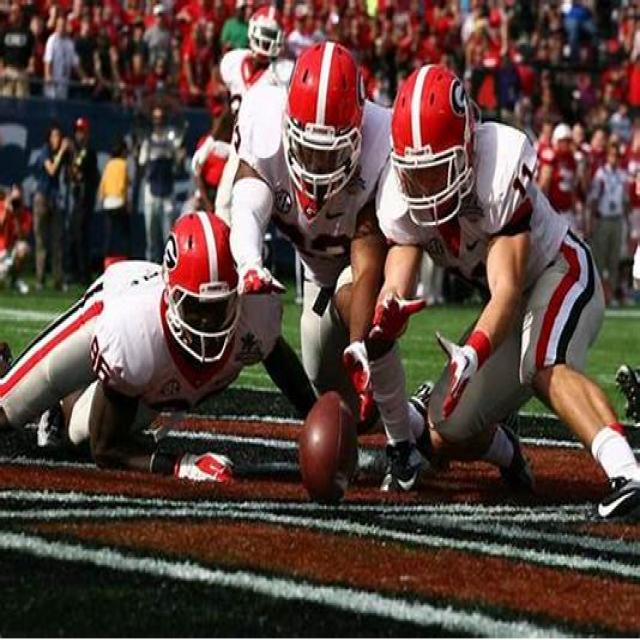illegal_helmet: (386, 58, 480, 234), (283, 39, 368, 212), (159, 206, 241, 373)
